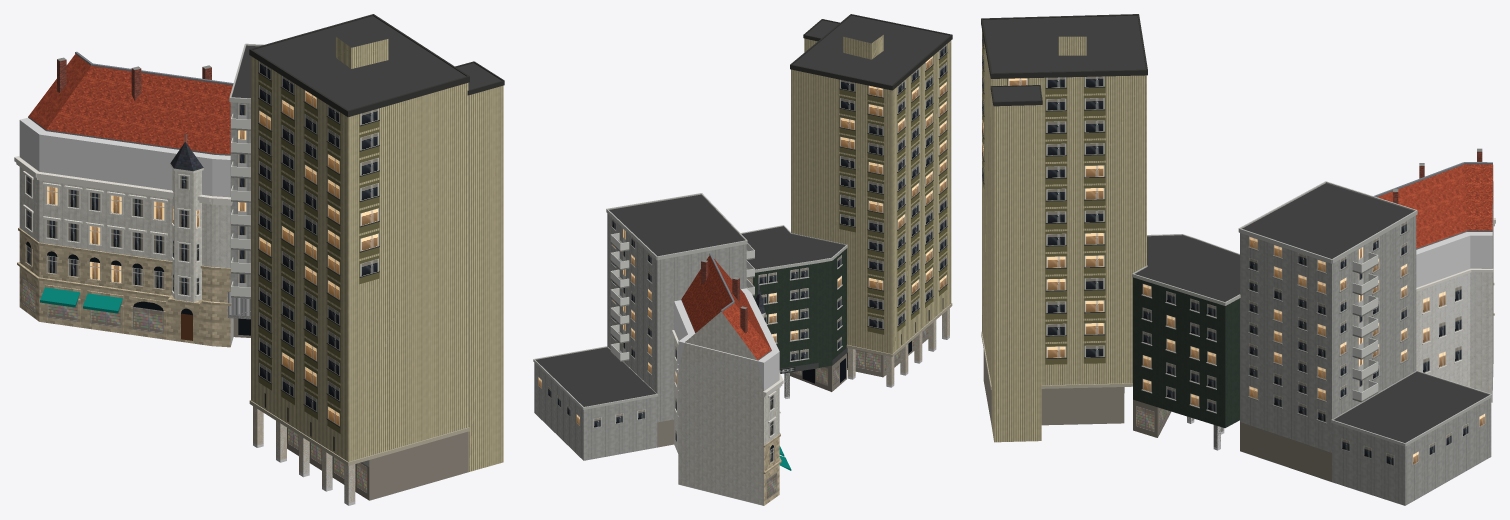
The model's file is neusser-florastrasse.glb.
3 renders of one model, left to right at view 1: azimuth 30°, elevation 25°; view 2: azimuth 150°, elevation 25°; view 3: azimuth 270°, elevation 25°, orthographic. The views are drawn at different scales.
Visible parts, largest first — view 1: neusser-florastrasse, neusser-florastrasse_col; view 2: neusser-florastrasse, neusser-florastrasse_col; view 3: neusser-florastrasse, neusser-florastrasse_col.
Boxes of the visible parts, x1,y1,x2,y2 form: neusser-florastrasse: (14,14,504,502); neusser-florastrasse_col: (19,117,355,505); neusser-florastrasse: (533,14,952,505); neusser-florastrasse_col: (674,288,949,505); neusser-florastrasse: (981,14,1495,505); neusser-florastrasse_col: (1187,196,1493,450).
Size of the model in its own units: 42.27 by 46.9 by 58.96.
Materials: 33 (20 with a texture image).
